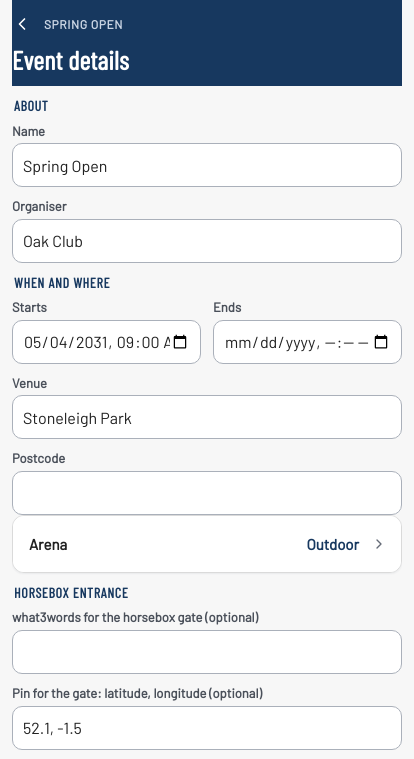
Test: horsebox entrance on the organiser’s event details › explains that a pin cannot be cleared by itself
The width and height of the screenshot is (414, 759).
Clear the field labelled "Pin for the gate: latitude, longitude (optional)": (207, 728) [12,706,402,750]
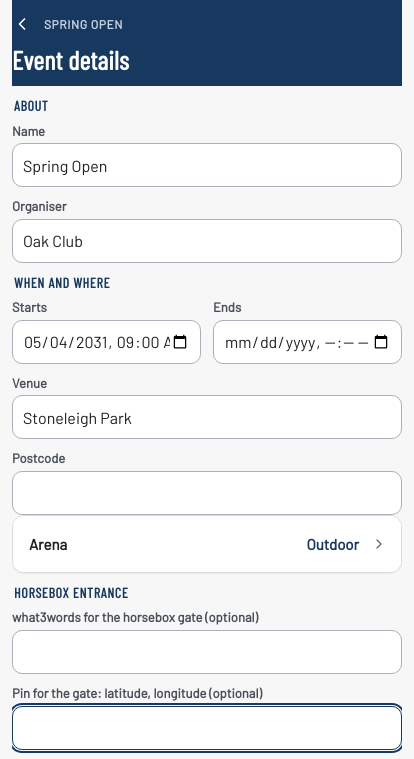
Press Tab
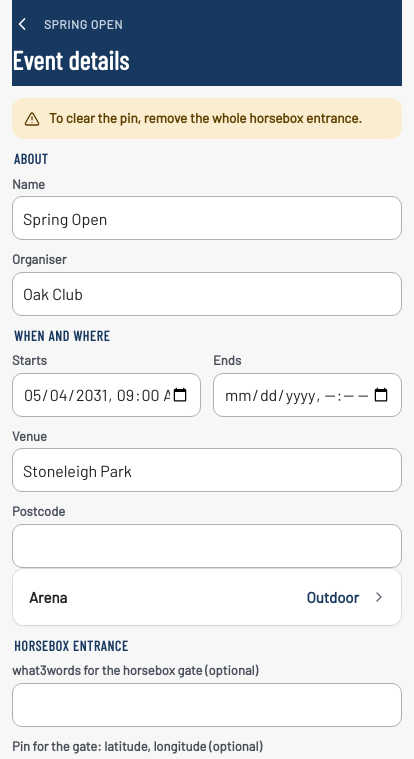
Now the message shows "remove the whole horsebox entrance", box [49,109,362,126]
